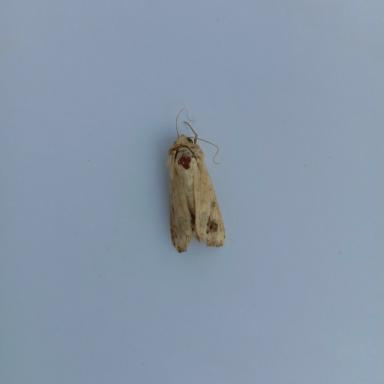abw: (163, 102, 227, 255)
